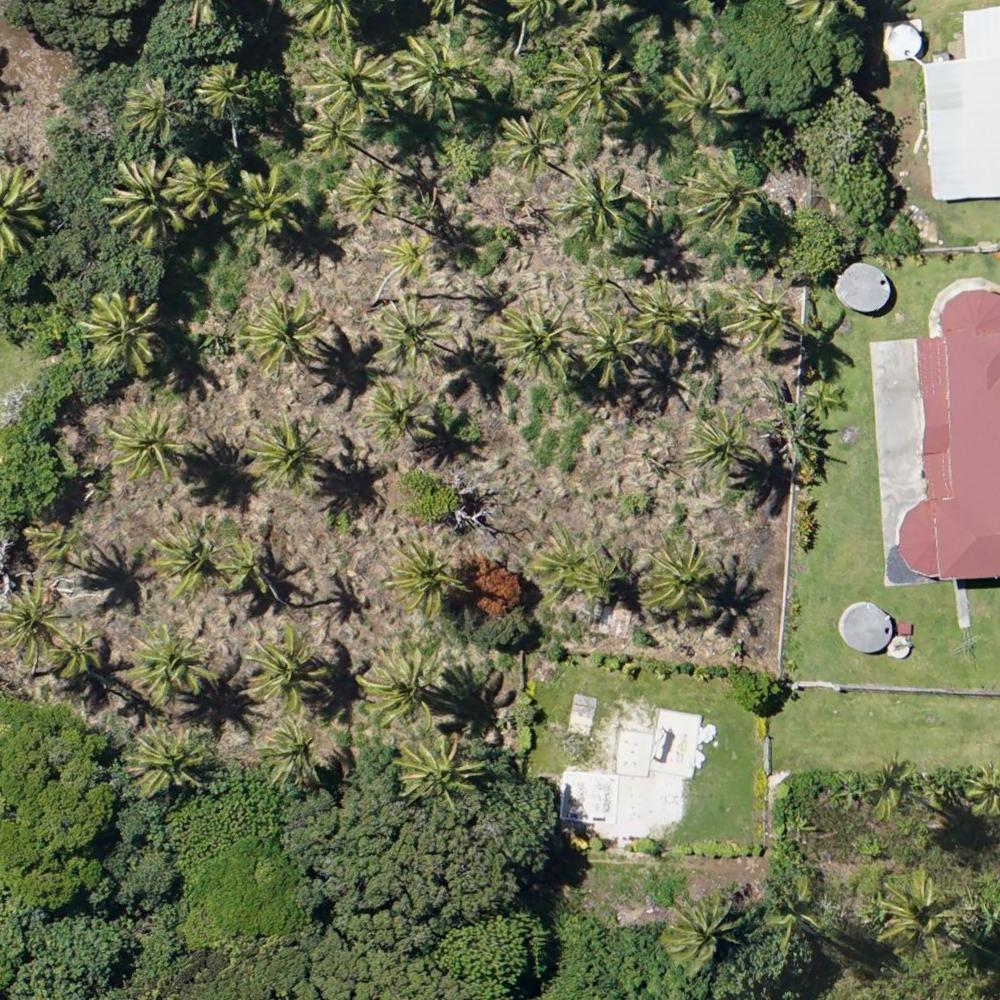Palm: (545, 42, 639, 129), (243, 629, 330, 719), (243, 288, 328, 380), (300, 47, 397, 125), (679, 150, 765, 235), (874, 871, 961, 955), (81, 291, 164, 377), (392, 36, 479, 118), (499, 298, 579, 386), (375, 292, 458, 373), (252, 413, 332, 494), (664, 891, 748, 968), (107, 156, 185, 238), (662, 59, 750, 131), (128, 629, 213, 702), (1, 577, 64, 675), (399, 739, 487, 809), (358, 649, 435, 727), (390, 535, 470, 609), (109, 401, 184, 479), (578, 305, 647, 388), (565, 168, 637, 247), (643, 539, 715, 616), (131, 723, 208, 793), (631, 274, 698, 352), (152, 524, 219, 597), (531, 528, 597, 599), (232, 168, 300, 236), (259, 714, 324, 785), (688, 410, 753, 479), (733, 284, 796, 351), (122, 80, 186, 145), (365, 381, 426, 449), (497, 113, 559, 178), (292, 109, 362, 163), (336, 160, 396, 222), (216, 536, 279, 595), (28, 517, 89, 577), (167, 157, 226, 218), (48, 624, 106, 677), (191, 62, 248, 113), (572, 550, 624, 605), (382, 232, 435, 283)
